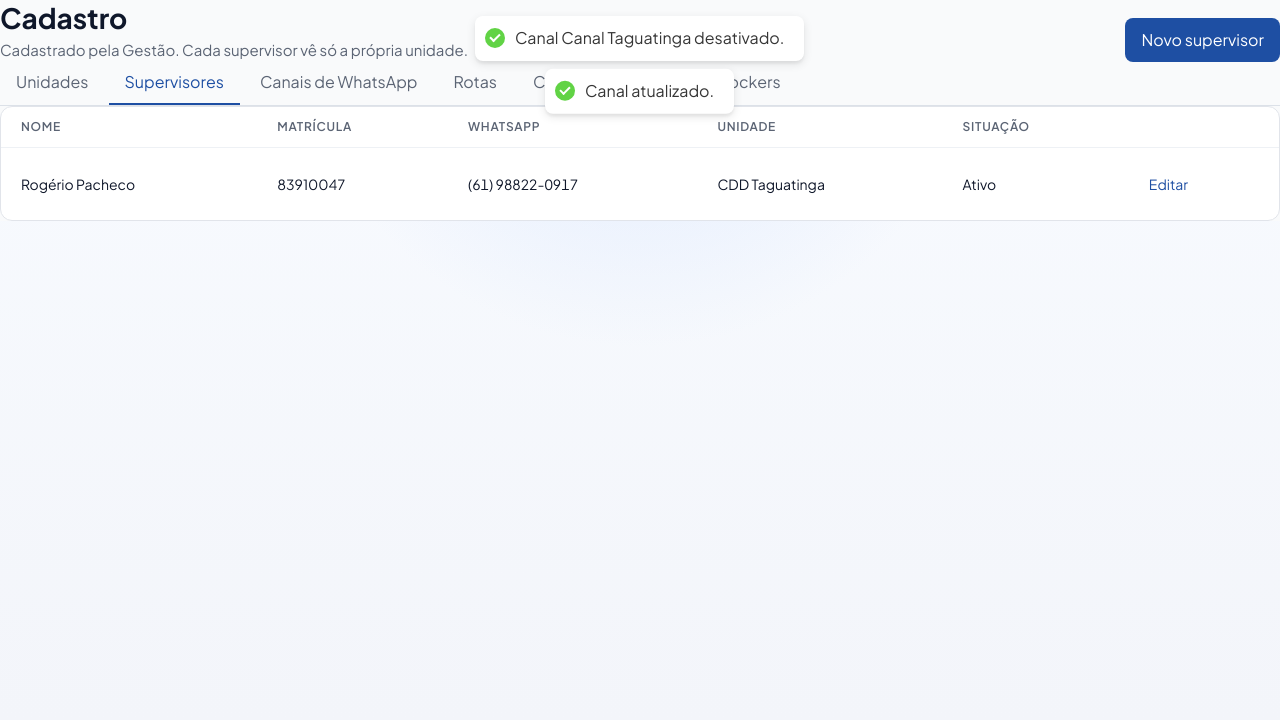
Test: Cadastro (auditoria) › supervisor: editar situação, unidade e celular pelas rotas da Gestão
Click the button with aria-label "Editar Rogério Pacheco" at (1168, 184), box [1141,162,1196,206]
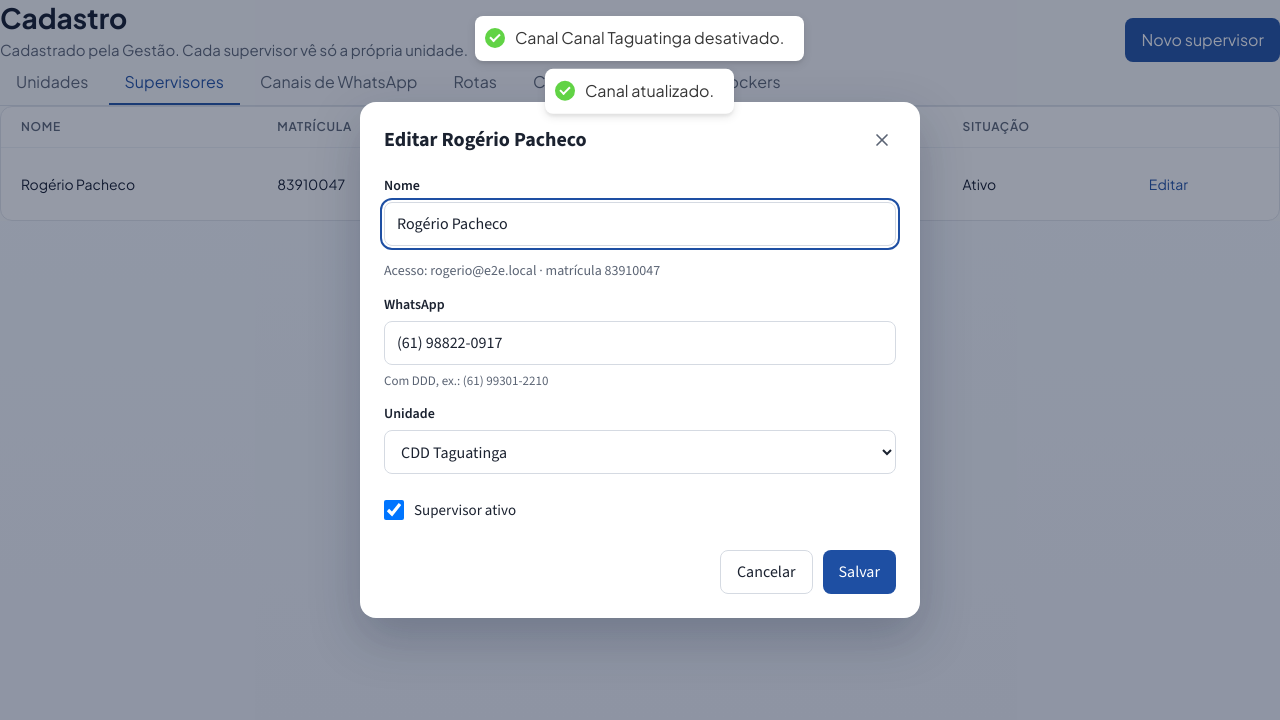
Expected: the field labelled "WhatsApp" holds "(61) 98822-0917", [384,321,896,365]
Select "CEE Águas Claras" in the dropdown labelled "Unidade" at (640, 452), box [384,430,896,474]
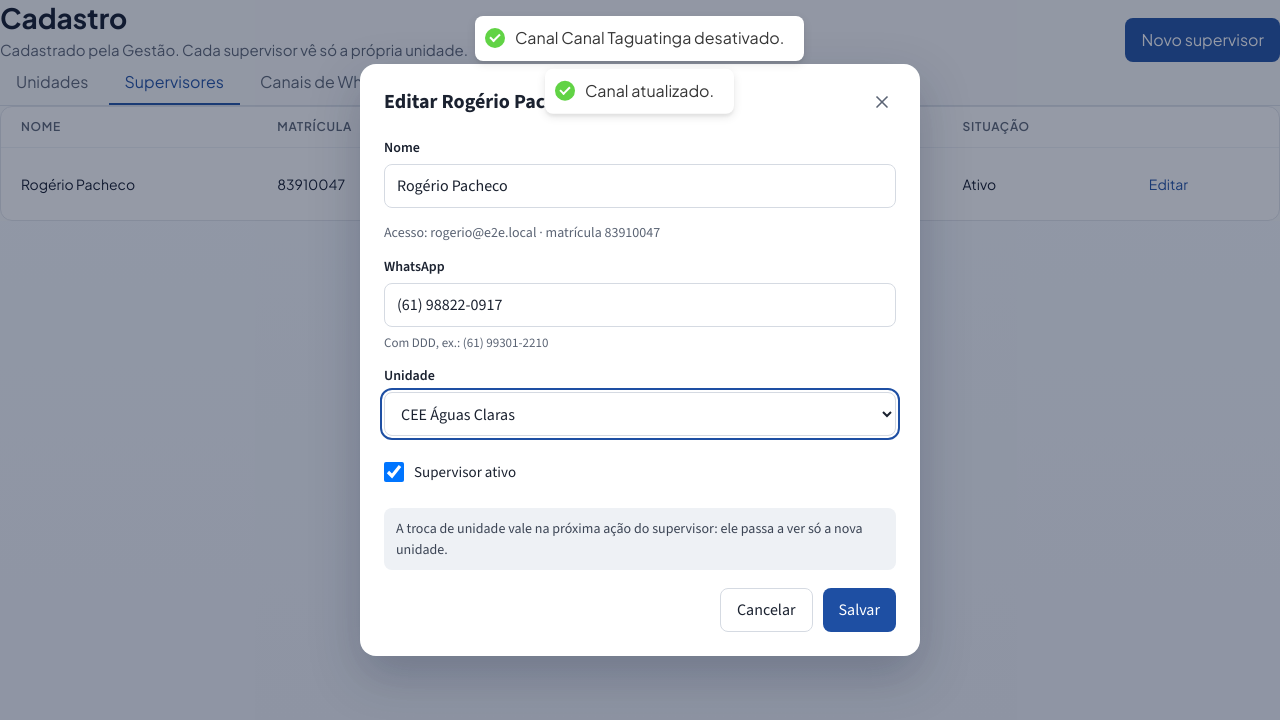
Click the checkbox labelled "Supervisor ativo" at (394, 472), box [384,462,404,482]
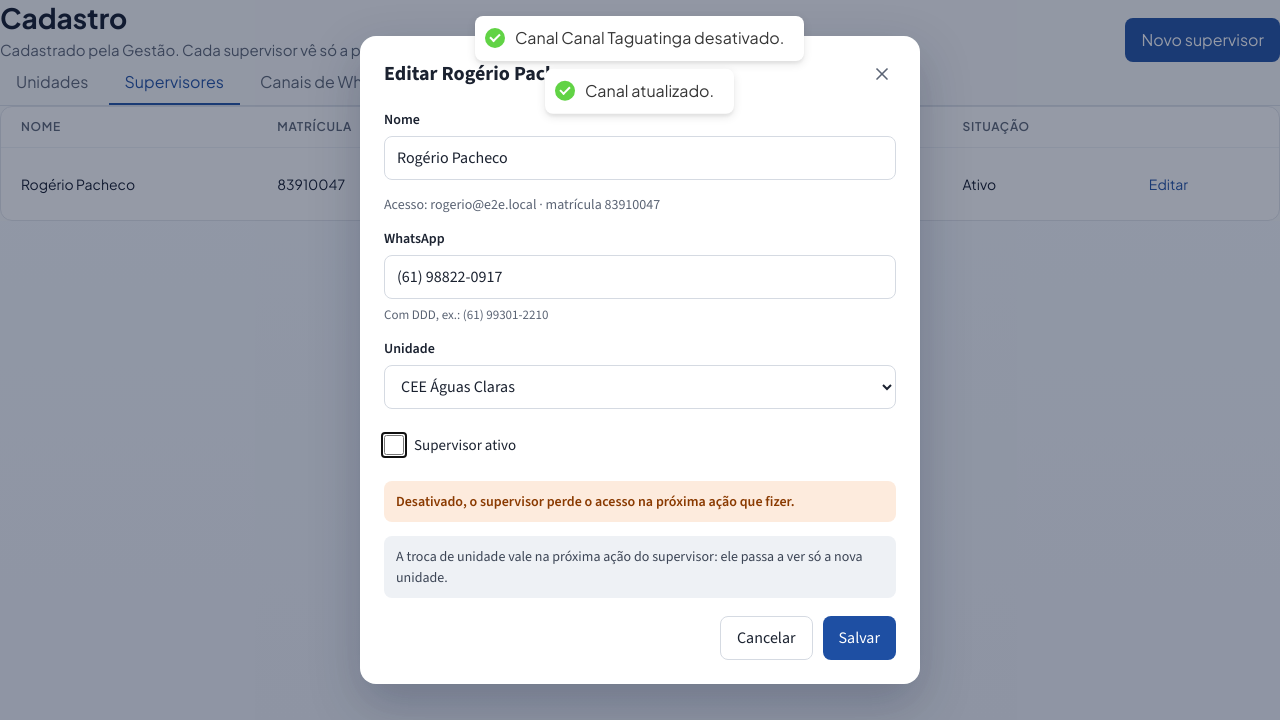
Expected: the dialog "Editar Rogério Pacheco" shows "perde o acesso na próxima ação", [396,492,795,511]
Click the button "Salvar" at (859, 638), box [822,616,896,660]
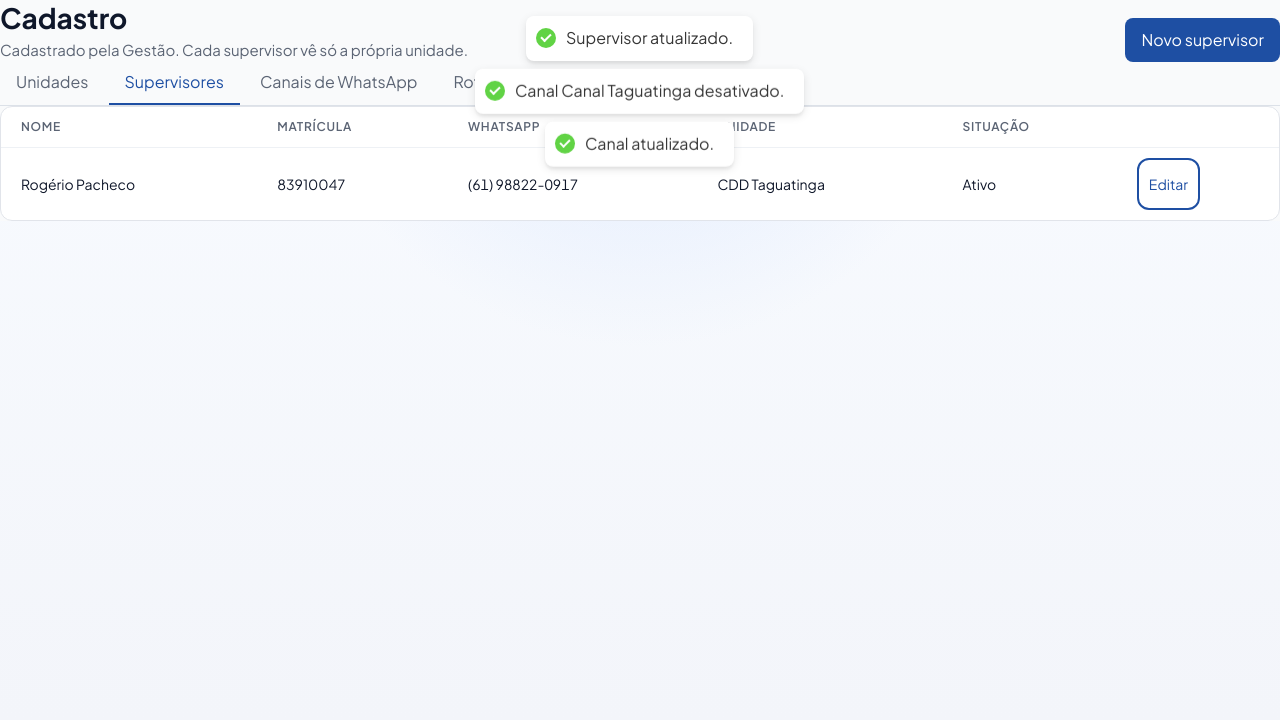
Expected: the dialog is gone
